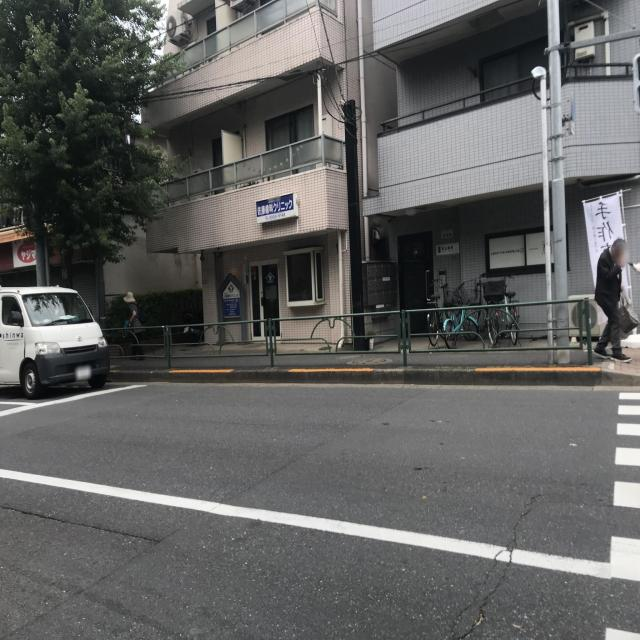maple: (0, 0, 191, 290)
